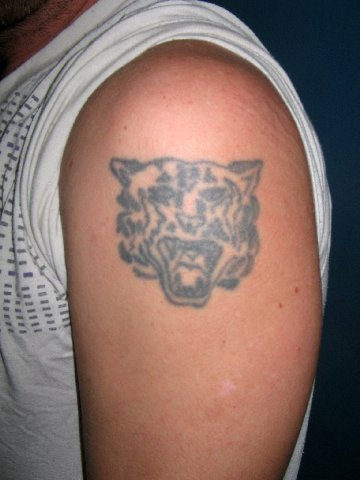tatu5_tigr: (106, 154, 267, 312)
